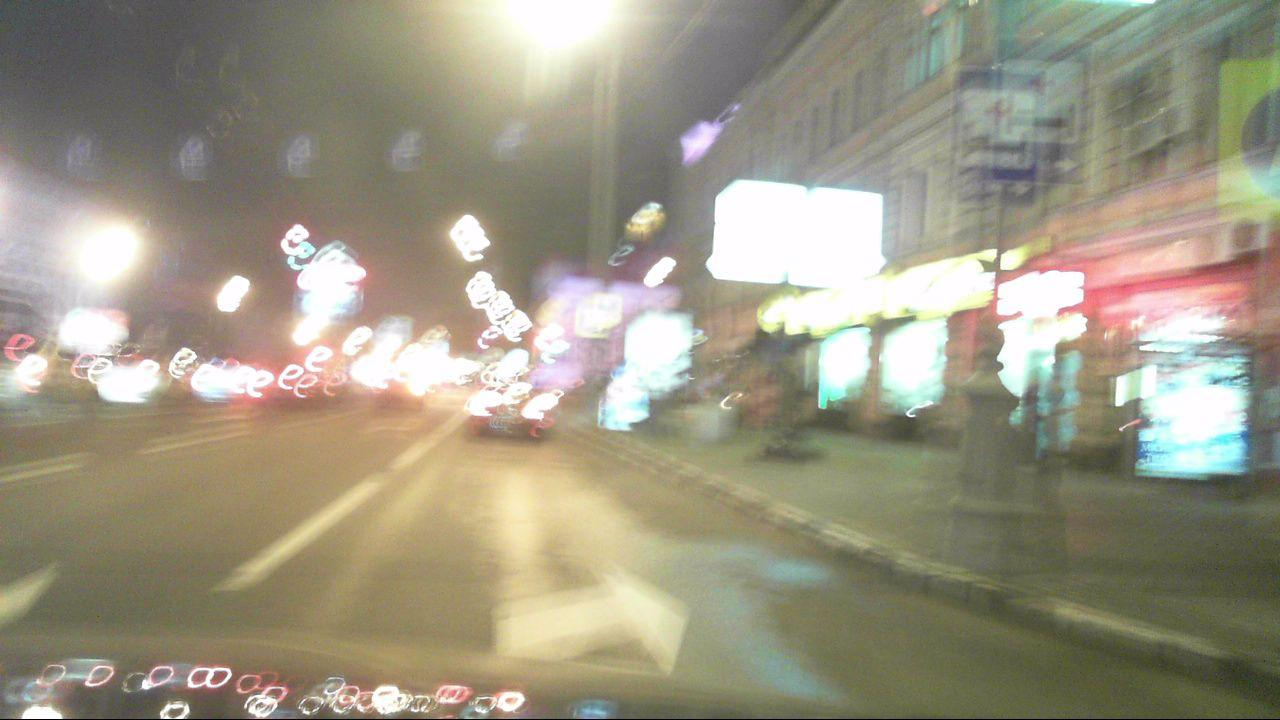4_2_2: (1226, 80, 1280, 206)
7_2: (949, 64, 1042, 209)
